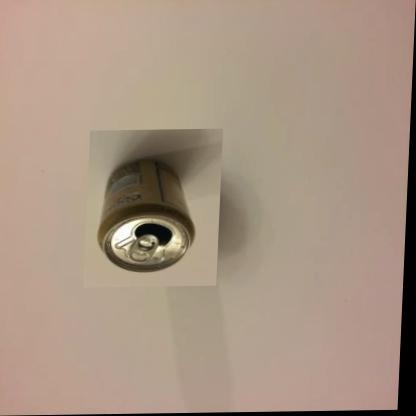trash: (98, 159, 194, 271)
